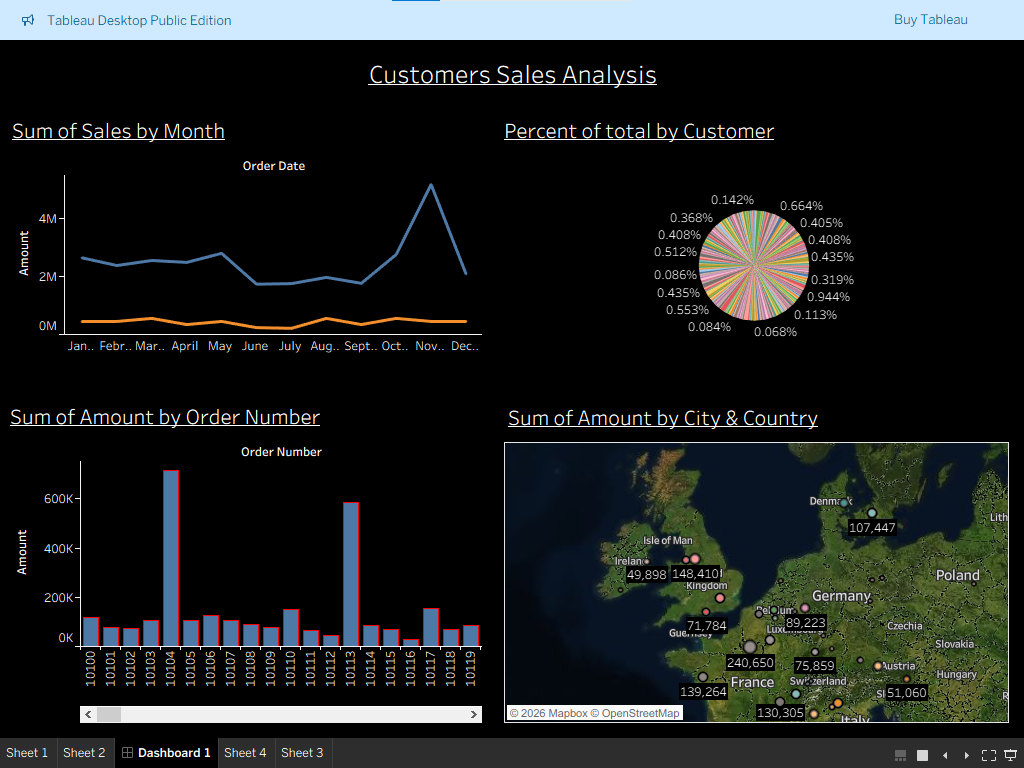

What the dashboard file says about the page in this screenshot:
{"tool":"tableau","page":{"name":"Dashboard 1","canvas":[1000,1000],"units":"permille","ordinal":0},"visuals":[{"type":"title","box":[7.4,9.1,986.5,79.7]},{"type":"worksheet","title":"Sheet 1","mark":"Automatic","rows":["amount"],"cols":["orderDate"],"box":[7.4,103.3,463.7,394.9]},{"type":"worksheet","title":"Sheet 2","mark":"Pie","box":[488.3,103.3,495.7,389.5]},{"type":"worksheet","title":"Sheet 4","mark":"Automatic","rows":["amount"],"cols":["orderNumber"],"box":[6.2,512.7,464.9,465.6]},{"type":"worksheet","title":"Sheet 3","mark":"Automatic","box":[492,514.5,493.2,463.8]}]}

Visuals, with their boxes on the dashboard's canvas, which has no fixed pixel size, in thousandths of its width and height (x1, y1, x2, y2). These are canvas units, not pixel positions in the 1024x768 screenshot, which may show the page scaled, cropped or inside an application window:
title: [7,9,994,89]
"Sheet 1" worksheet: [7,103,471,498]
"Sheet 2" worksheet (Pie marks): [488,103,984,493]
"Sheet 4" worksheet: [6,513,471,978]
"Sheet 3" worksheet: [492,514,985,978]
